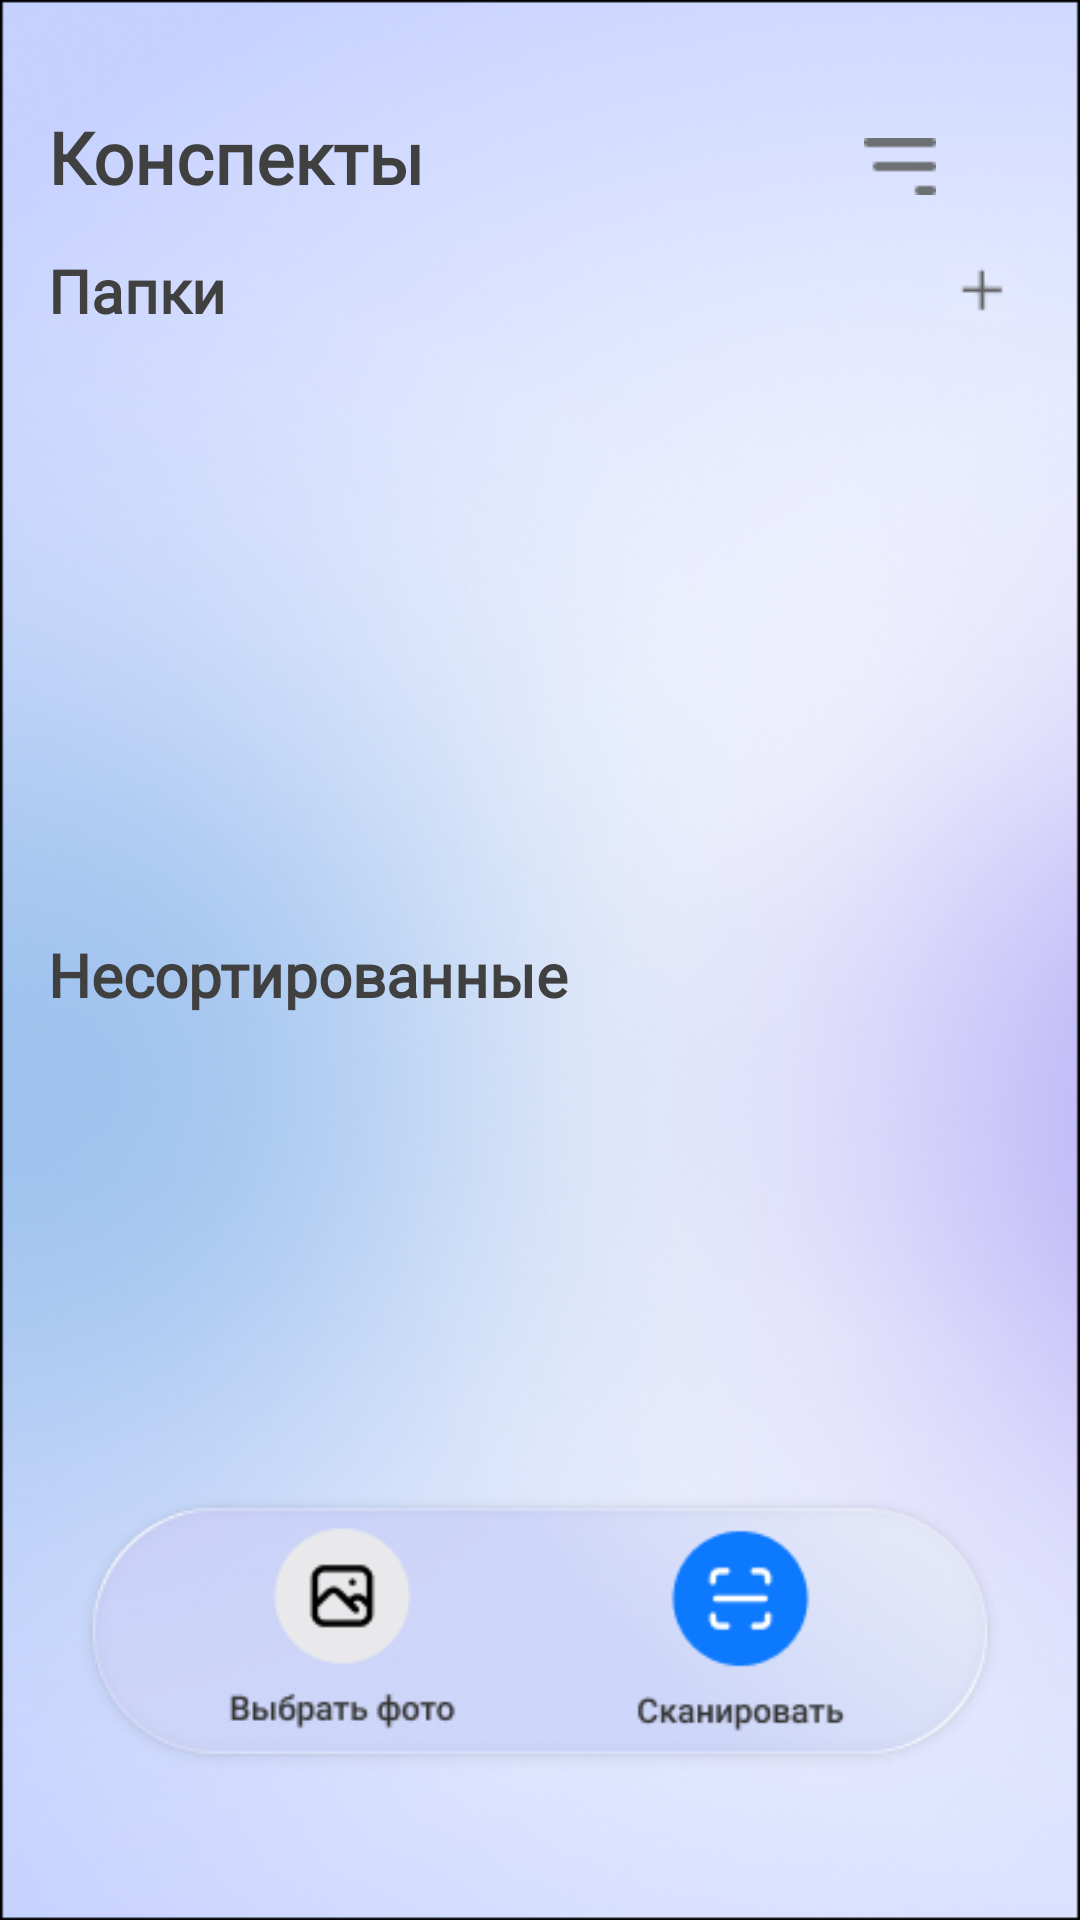

Screen size 1080x1920. Icon name, then its box in pixels as (x1, y1, x2, y2):
menu: (864, 138, 936, 195)
plus: (962, 270, 1003, 311)
